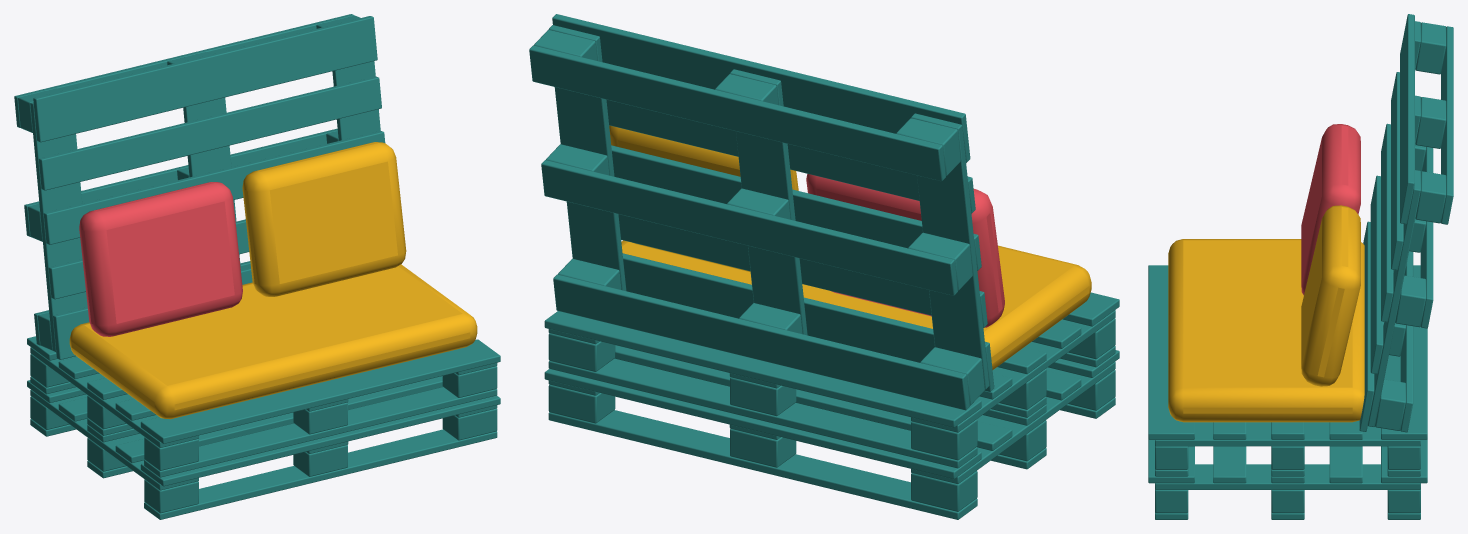
Rendered from pallet_bench.fbx.
The picture shows the model from 3 angles, left to right: view 1: azimuth 30°, elevation 25°; view 2: azimuth 150°, elevation 25°; view 3: azimuth 270°, elevation 25°; orthographic projection. The views are drawn at different scales.
Parts seen in each view (by area): view 1: pallet_bench; view 2: pallet_bench; view 3: pallet_bench.
Part boxes in pixels (bbox=[...]): pallet_bench: bbox=[14, 14, 500, 519]; pallet_bench: bbox=[529, 14, 1119, 519]; pallet_bench: bbox=[1148, 14, 1453, 519].
Bounding box in the file's own units: 1.2 × 1.12 × 0.9184.
